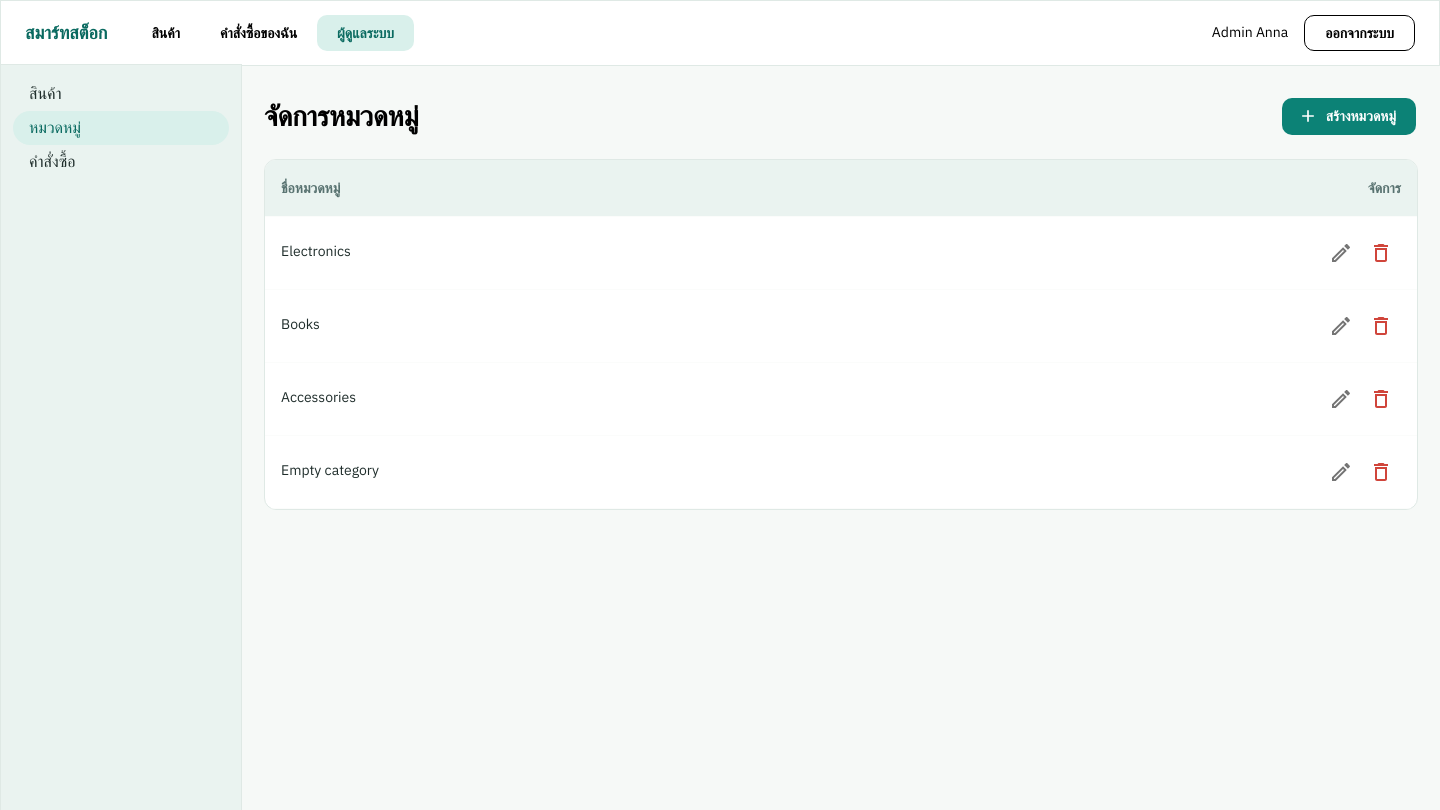
Test case: deleting a category that still has products leaves them showing ไม่มีหมวดหมู่
This screenshot has width=1440, height=810.
Click the button named "ลบ Books" at [1381, 326], box [1361, 306, 1401, 346]
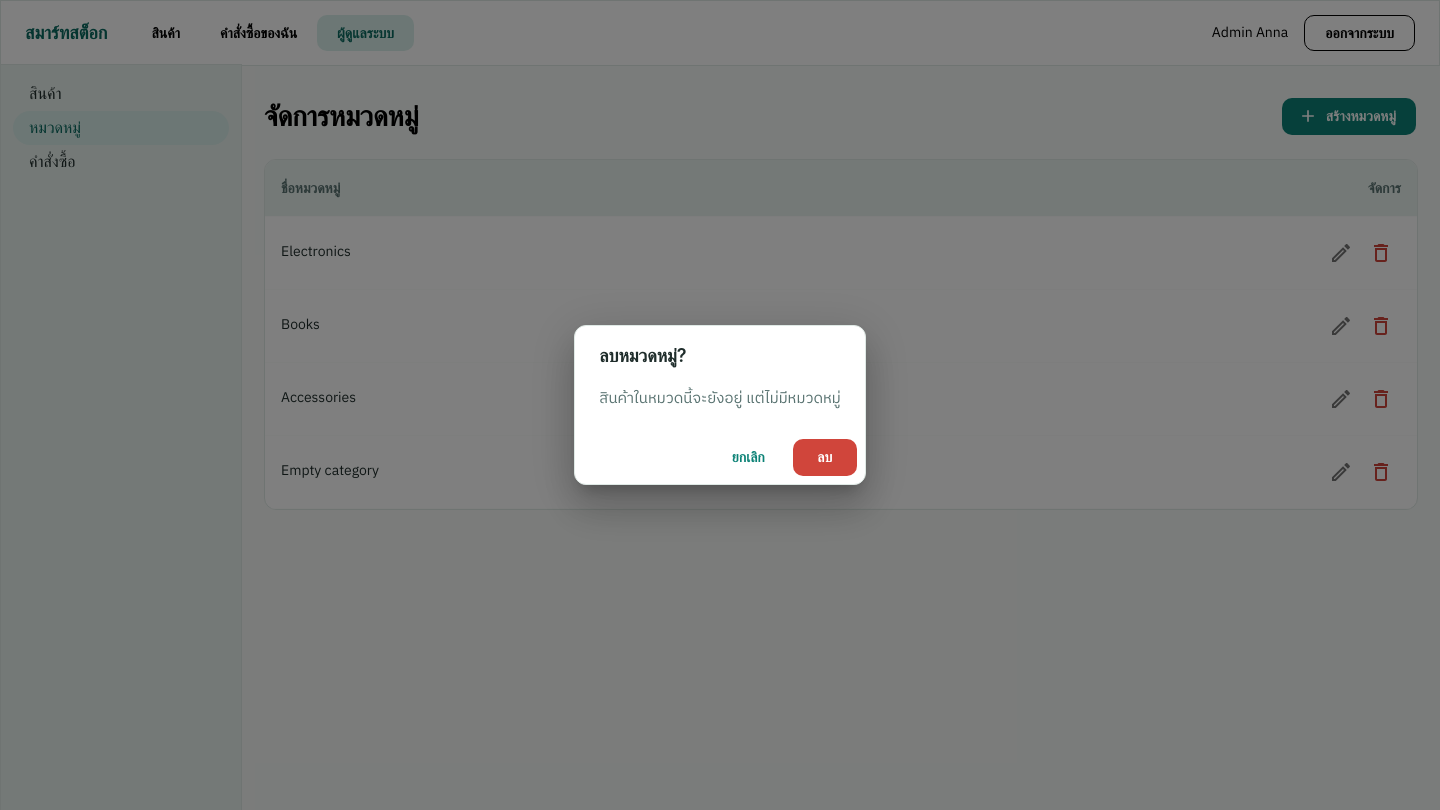
Click the button "ลบ" at [825, 457], box [793, 439, 857, 476]
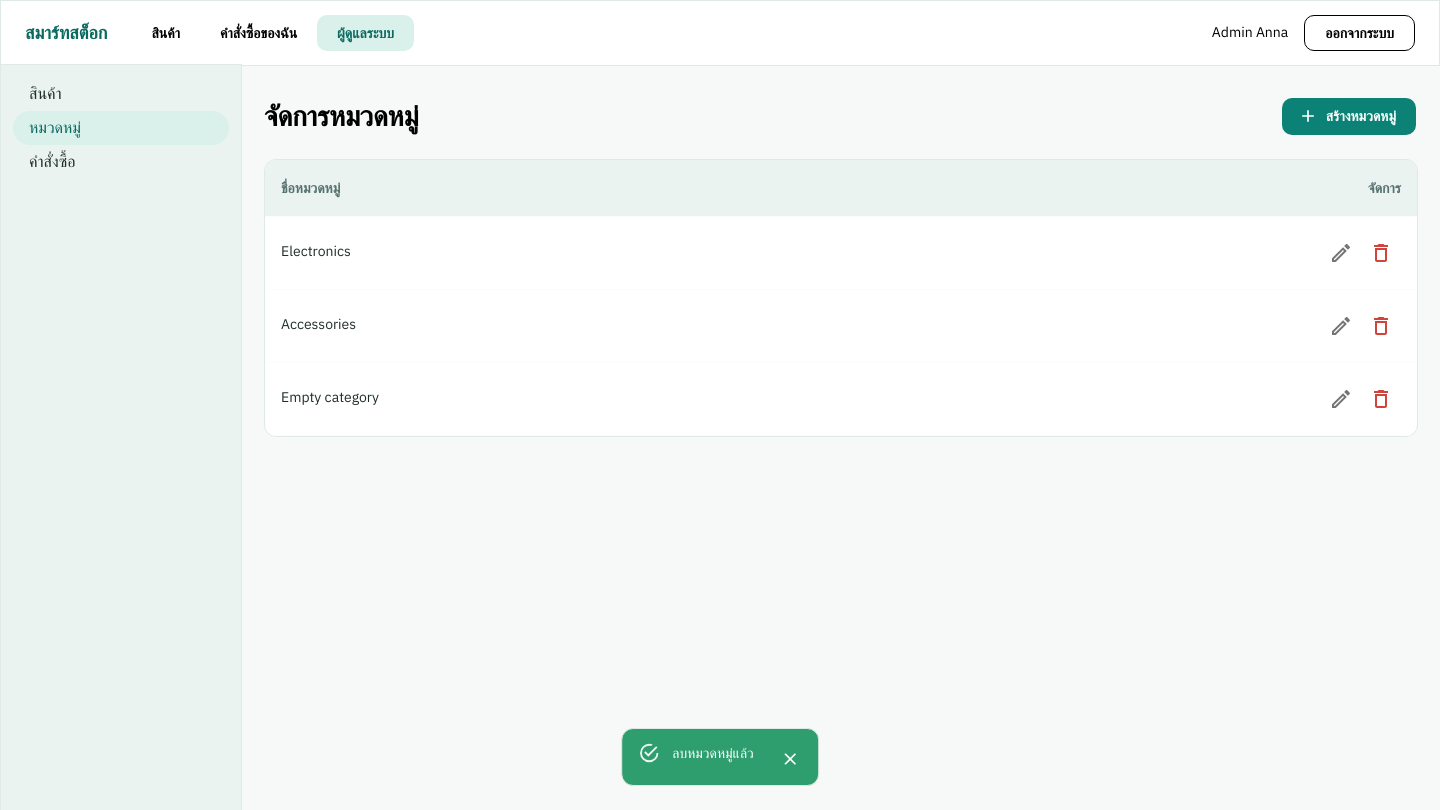
Expected: the text "ลบหมวดหมู่แล้ว" is shown, [672, 744, 754, 761]
